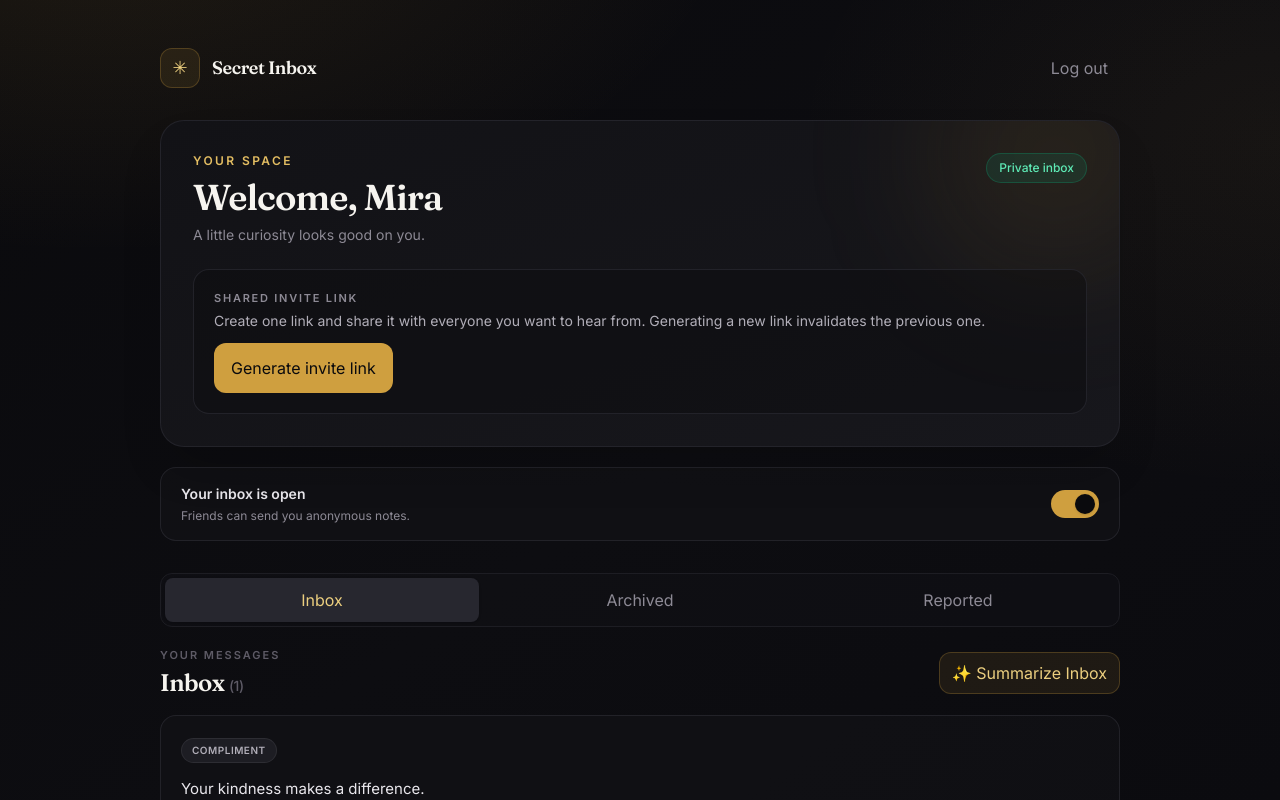
Test: inbox dashboard › shows paused state when inbox accepting is switched off
Expected: the heading "Welcome, Mira" is shown, top-left (193, 177), bottom-right (442, 217)
Click the switch named "Accept new messages" at (1075, 504), box top-left (1051, 490), bottom-right (1099, 518)
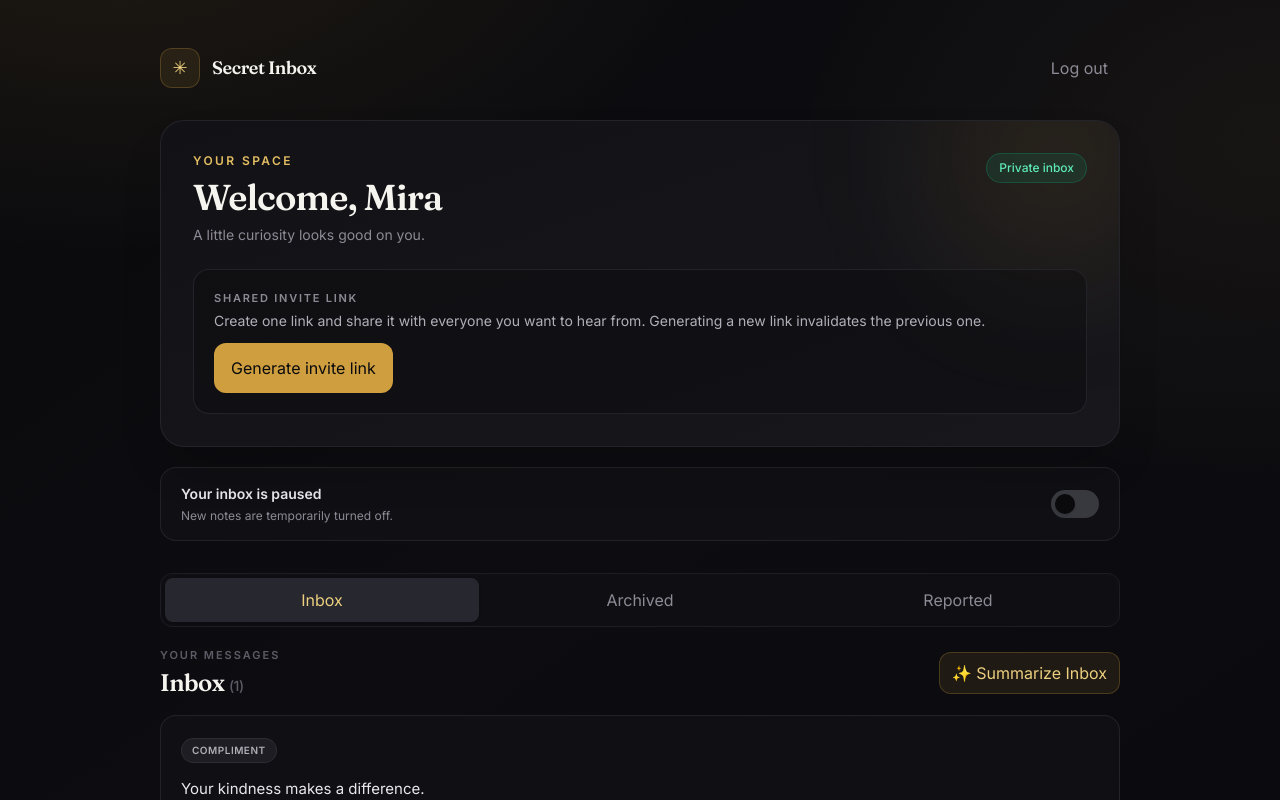
Now the text "Your inbox is paused" is shown, box top-left (181, 484), bottom-right (322, 502)
